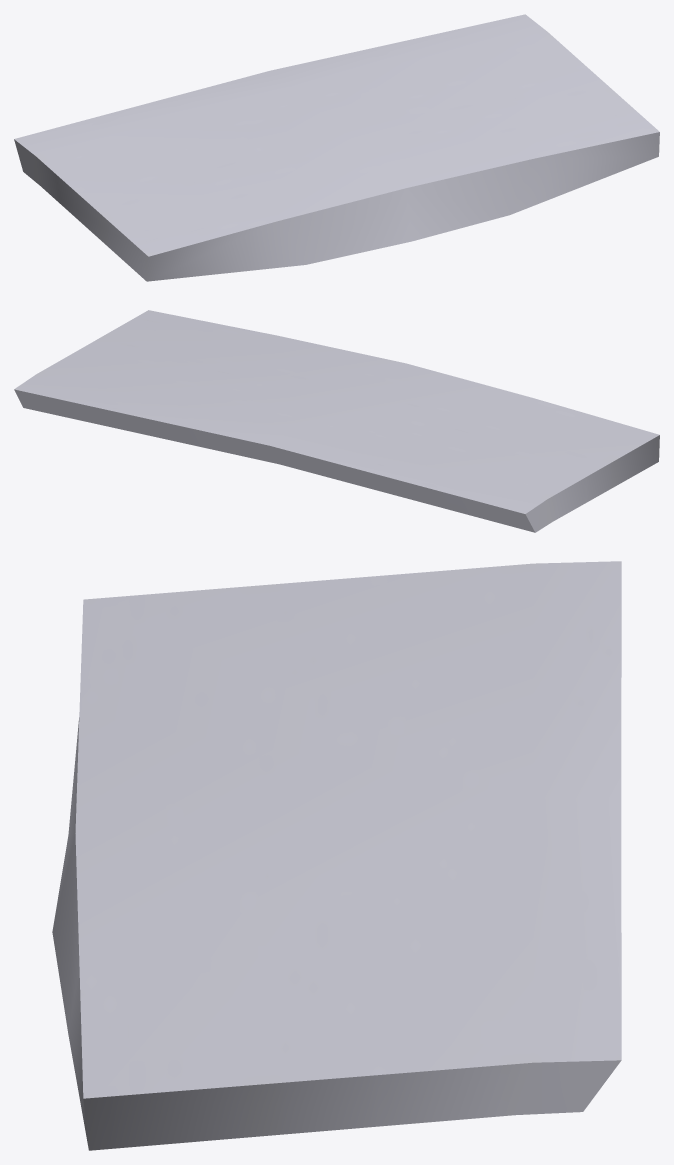
The model's file is pdinggai.FBX.
The picture shows the model from 3 angles, top to bottom: view 1: azimuth 30°, elevation 25°; view 2: azimuth 150°, elevation 25°; view 3: azimuth 270°, elevation 25°; orthographic projection. The views are drawn at different scales.
Parts seen in each view (by area): view 1: pdinggai; view 2: pdinggai; view 3: pdinggai.
Boxes of the visible parts, x1=… form: pdinggai: x1=14, y1=14, x2=659, y2=281; pdinggai: x1=14, y1=310, x2=659, y2=532; pdinggai: x1=52, y1=561, x2=621, y2=1150.
Size of the model in its own units: 416 by 53.46 by 200.
